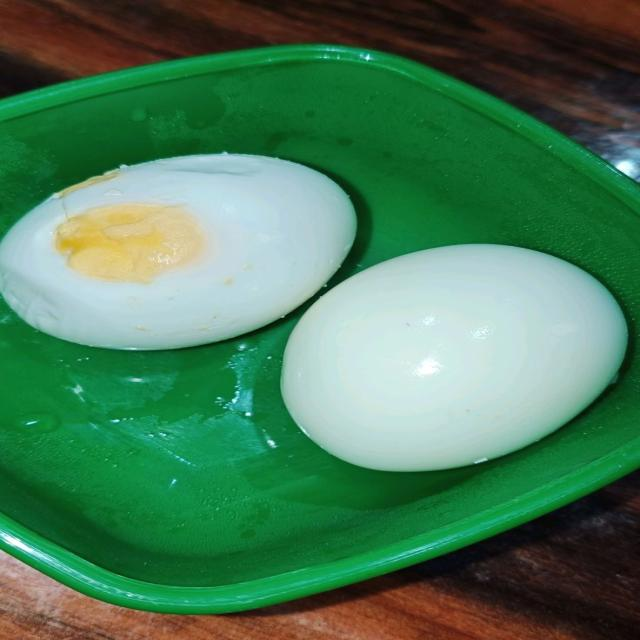eggs: (38, 159, 564, 481)
